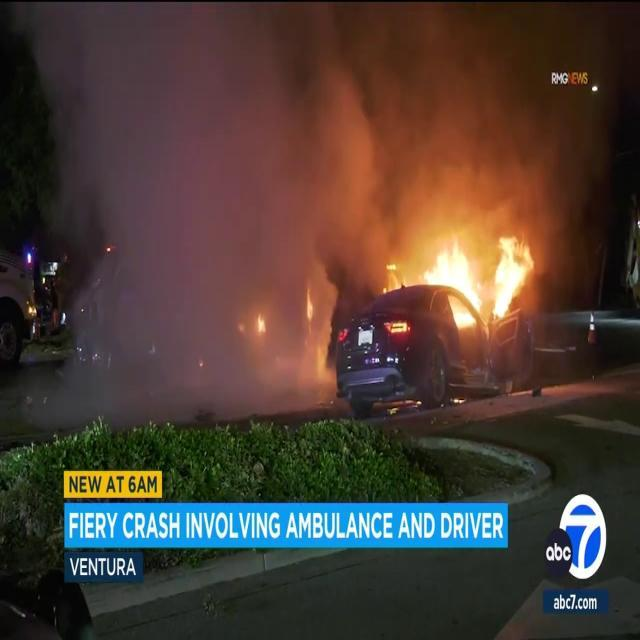Fire: (392, 228, 536, 324)
Smoke: (29, 3, 628, 246), (240, 2, 624, 248)
